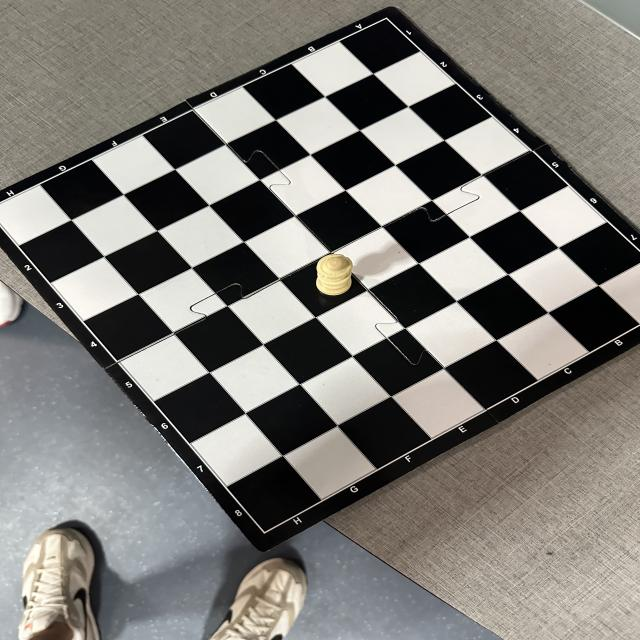White-Queen: (316, 255, 353, 297)
